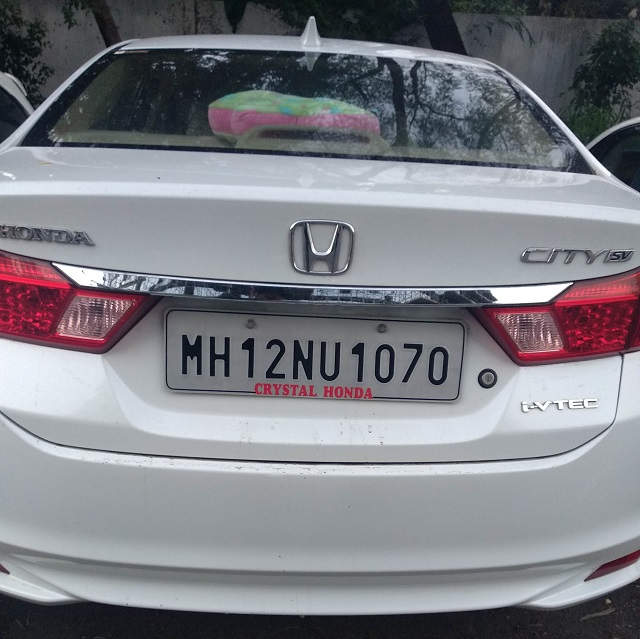licenseplate: (158, 299, 466, 407)
